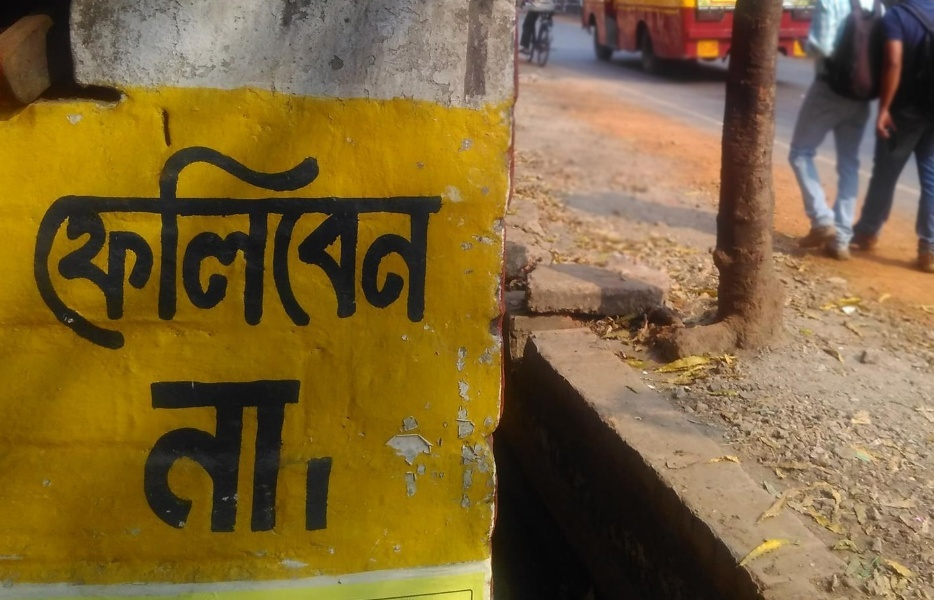text: (49, 140, 64, 359), (65, 140, 80, 359), (81, 140, 96, 359), (97, 140, 112, 359), (113, 140, 128, 359), (129, 140, 144, 359), (145, 140, 160, 359), (161, 140, 176, 359), (177, 140, 192, 359), (193, 140, 208, 359), (209, 140, 224, 359), (225, 140, 240, 359), (241, 140, 256, 359), (257, 140, 272, 359), (273, 140, 288, 359), (289, 140, 304, 359), (305, 140, 320, 359), (321, 140, 336, 359), (337, 140, 352, 359), (353, 140, 368, 359), (369, 140, 384, 359), (385, 140, 400, 359), (401, 140, 416, 359), (417, 140, 432, 359), (34, 140, 48, 359), (145, 377, 160, 540), (161, 377, 176, 540), (177, 377, 192, 540), (193, 377, 208, 540), (209, 377, 224, 540), (225, 377, 240, 540), (241, 377, 256, 540), (257, 377, 272, 540), (273, 377, 288, 540), (289, 377, 304, 540), (305, 377, 320, 540), (321, 377, 336, 540), (433, 140, 444, 359), (337, 377, 341, 540)
